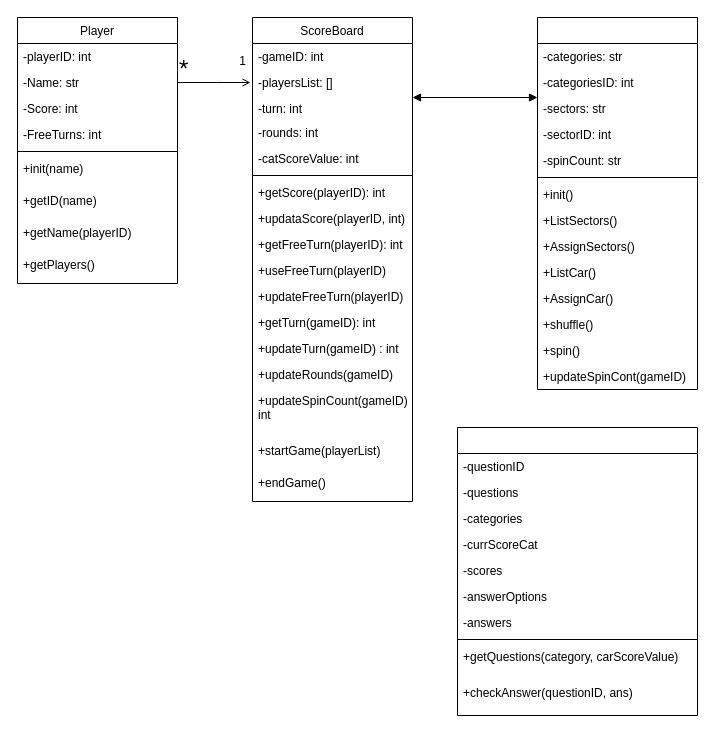
The diagram is 715 pixels wide and 736 high, and some of its shapes have lost their labels. Each missing label, with the box of its shape:
QuestionBanks: (456, 426, 698, 716)
Wheel: (536, 16, 698, 390)
